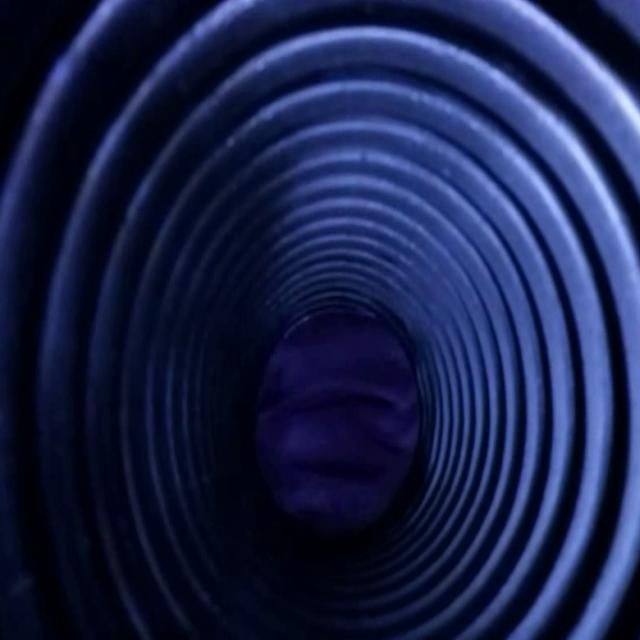block: (260, 316, 430, 518)
